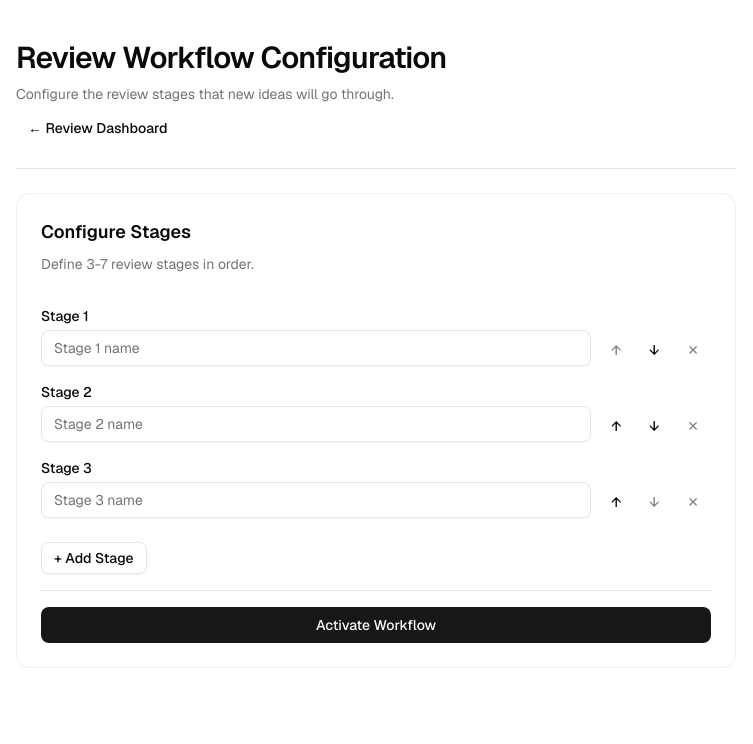
Test: WorkflowConfigPage › allows adding stages up to max
Check: the text "Configure Stages" is shown, box [41,220,191,243]
Start with 3 stages, add up to 7
Click the button "+ Add Stage". click: (94, 558)
box: [41,542,147,574]
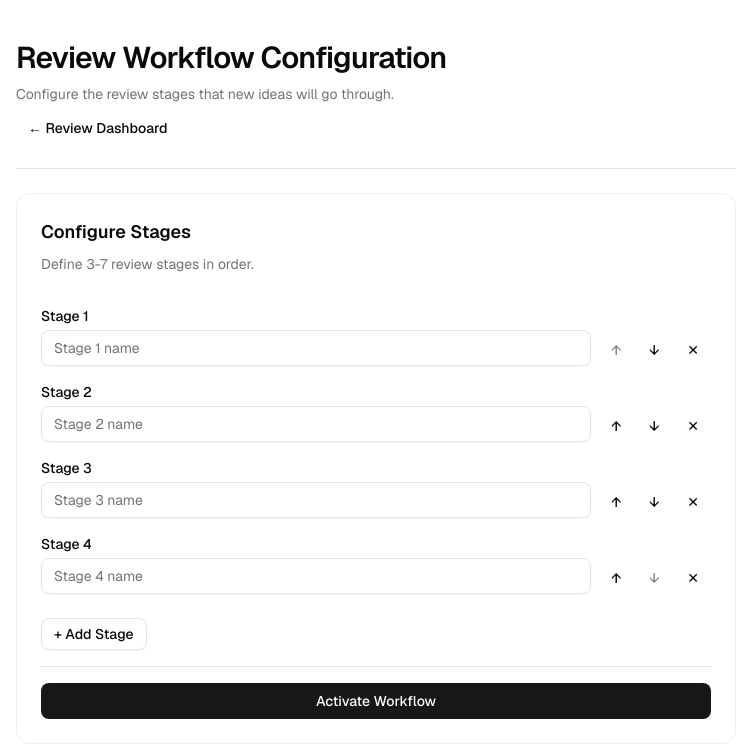
Click the button "+ Add Stage". click: (94, 634)
box: [41,618,147,650]
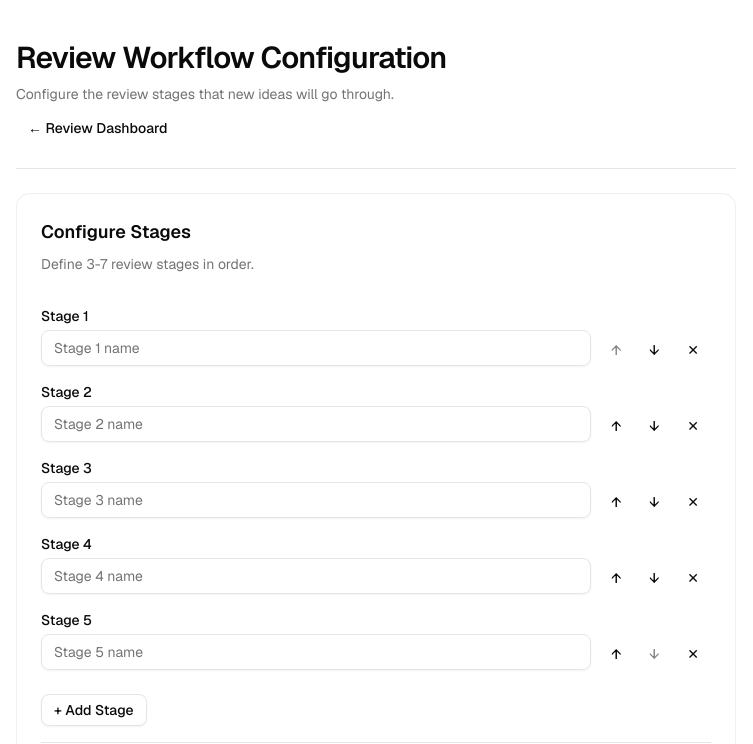
Click the button "+ Add Stage". click: (94, 710)
box: [41,694,147,726]
(page scrolled)
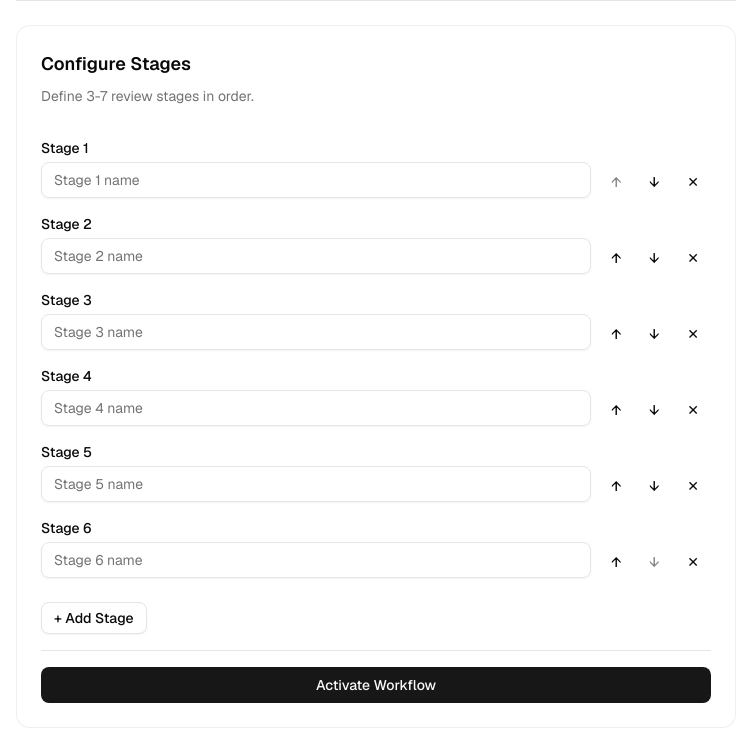
Click the button "+ Add Stage". click: (94, 618)
box: [41,602,147,634]
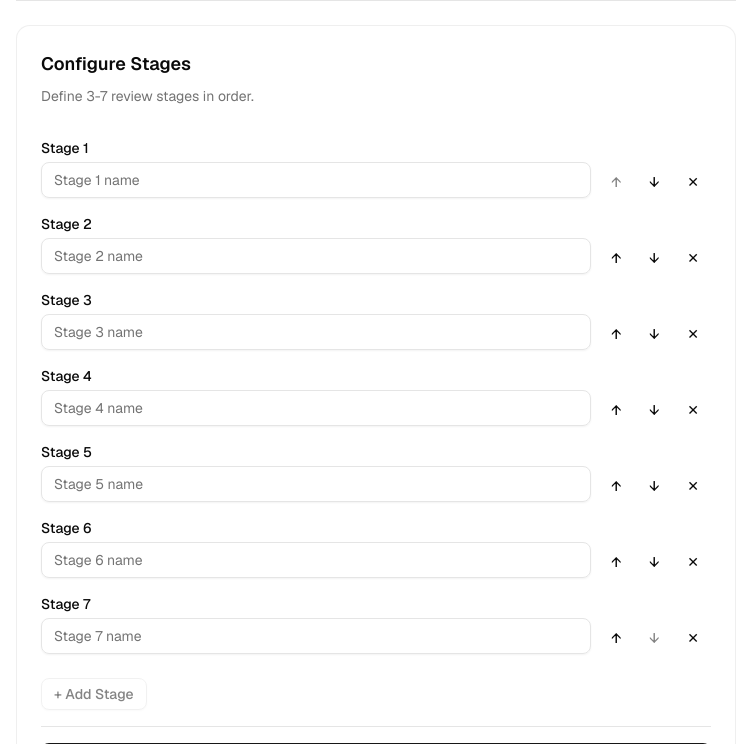
Check: the field labelled "Stage 7" is shown, box [41,618,591,654]
Check: the button "+ Add Stage" is disabled, box [41,678,147,710]
